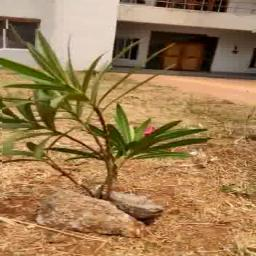OLEANDER: (3, 29, 209, 185)
